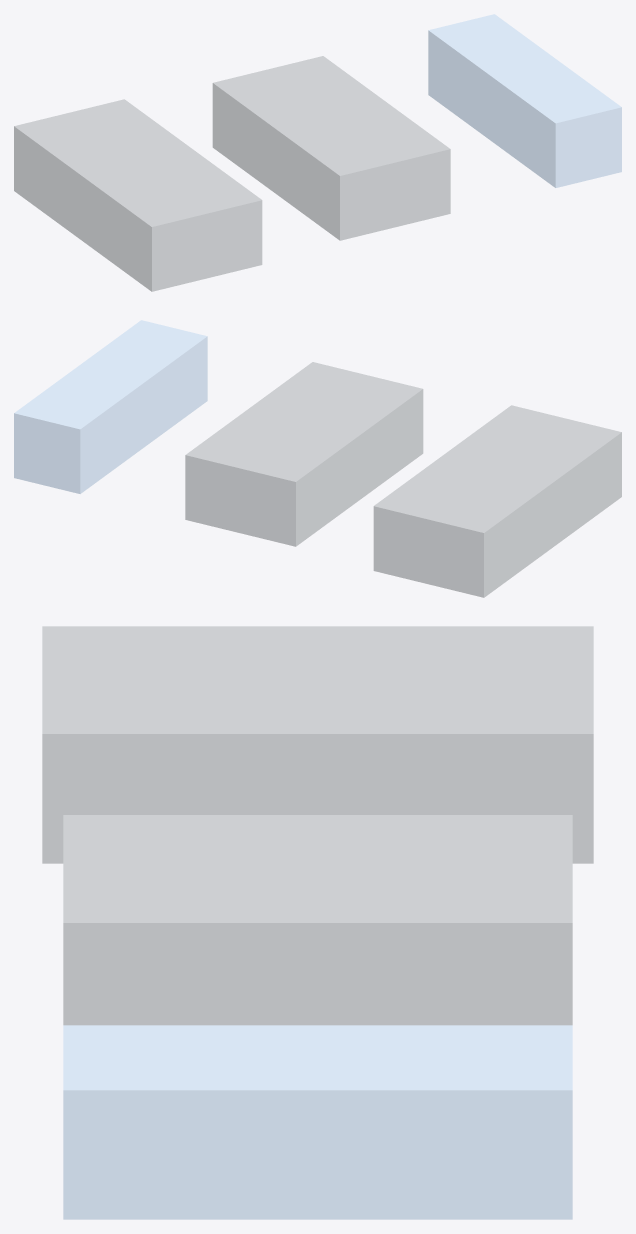
The model's file is glb-ResNet_3D.glb.
3 views of the same model, one above another, from view 1: azimuth 30°, elevation 25°; view 2: azimuth 150°, elevation 25°; view 3: azimuth 270°, elevation 25° (orthographic). The views are drawn at different scales.
Parts seen in each view (by area): view 1: flatten, fc, output; view 2: flatten, fc, output; view 3: fc, flatten, output.
Part boxes in pixels (<box>): flatten: <box>14,99,262,291</box>; fc: <box>212,56,450,240</box>; output: <box>428,14,621,187</box>; flatten: <box>373,405,621,597</box>; fc: <box>185,362,423,546</box>; output: <box>14,320,207,493</box>; fc: <box>63,815,572,1025</box>; flatten: <box>42,626,593,863</box>; output: <box>63,1025,572,1219</box>.
Bounding box in the file's own units: 8.6 × 1.12 × 4.32.
